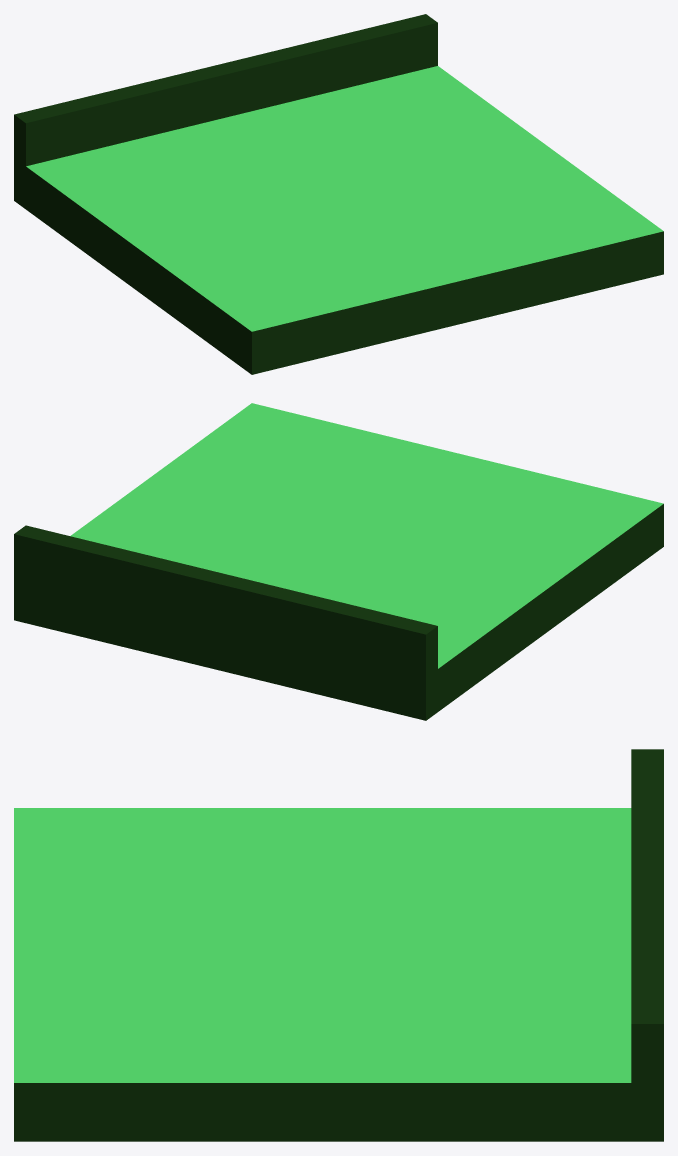
The model's file is MG Single Wall.fbx.
3 views of the same model, one above another, from view 1: azimuth 30°, elevation 25°; view 2: azimuth 150°, elevation 25°; view 3: azimuth 270°, elevation 25° (orthographic). The views are drawn at different scales.
Parts seen in each view (by area): view 1: MG Single Wall; view 2: MG Single Wall; view 3: MG Single Wall.
Boxes of the visible parts, x1,y1,x2,y2 form: MG Single Wall: (14, 14, 663, 374); MG Single Wall: (14, 403, 663, 720); MG Single Wall: (14, 749, 663, 1141).
Size of the model in its own units: 200 by 40 by 200.
